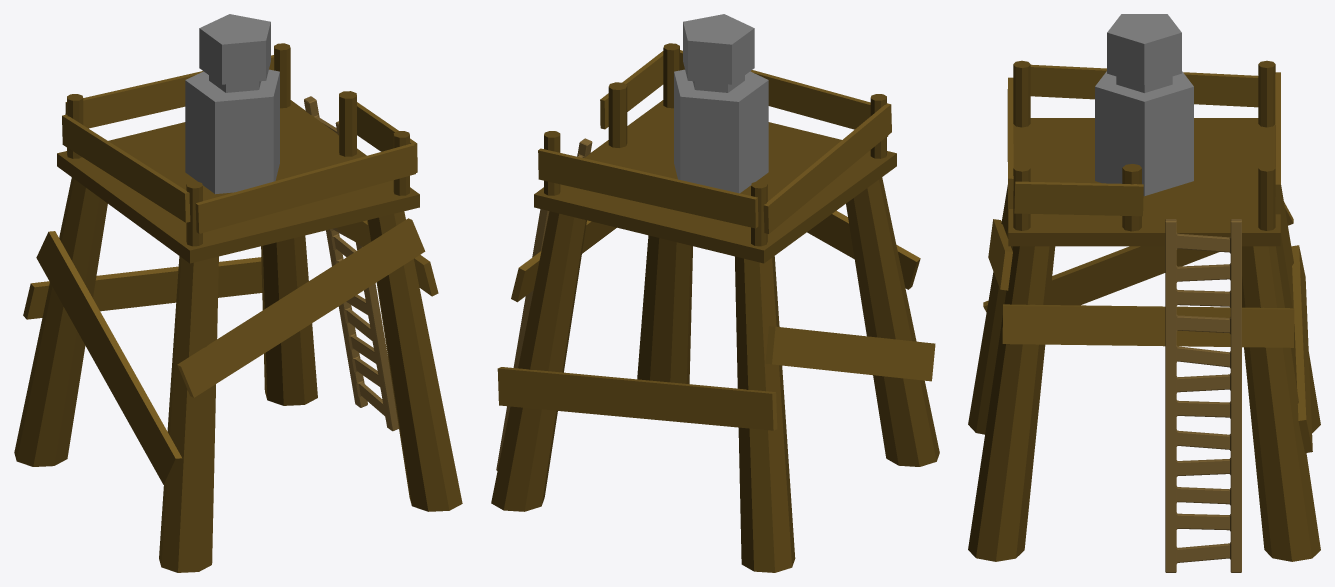
The model's file is woodenTower_Placeholder001.fbx.
3 views of the same model, side by side, from view 1: azimuth 30°, elevation 25°; view 2: azimuth 150°, elevation 25°; view 3: azimuth 270°, elevation 25° (orthographic). The views are drawn at different scales.
Parts seen in each view (by area): view 1: tower_001_Base, archer_001, tower_001_Structuring_003, tower_001_Structuring_001, tower_001_Railing_003, tower_001_Ladder, tower_001_Structuring_002, tower_001_Railing_006, tower_001_Railing_002, tower_001_Railing_004, tower_001_Structuring_004; view 2: tower_001_Base, archer_001, tower_001_Structuring_002, tower_001_Railing_002, tower_001_Structuring_001, tower_001_Railing_006, tower_001_Railing_003, tower_001_Structuring_003, tower_001_Railing_004, tower_001_Structuring_004, tower_001_Ladder; view 3: tower_001_Base, tower_001_Ladder, archer_001, tower_001_Structuring_004, tower_001_Structuring_001, tower_001_Railing_006, tower_001_Railing_004, tower_001_Structuring_002, tower_001_Structuring_003, tower_001_Railing_003, tower_001_Railing_002.
Part boxes in pixels (bbox=[...]): tower_001_Base: bbox=[14, 43, 462, 572]; archer_001: bbox=[185, 14, 279, 194]; tower_001_Structuring_003: bbox=[177, 218, 425, 397]; tower_001_Structuring_001: bbox=[36, 231, 182, 484]; tower_001_Railing_003: bbox=[195, 143, 415, 233]; tower_001_Ladder: bbox=[304, 96, 398, 431]; tower_001_Structuring_002: bbox=[23, 257, 262, 319]; tower_001_Railing_006: bbox=[62, 114, 190, 222]; tower_001_Railing_002: bbox=[65, 55, 273, 128]; tower_001_Railing_004: bbox=[357, 102, 417, 172]; tower_001_Structuring_004: bbox=[336, 220, 438, 296]; tower_001_Base: bbox=[491, 43, 939, 572]; archer_001: bbox=[674, 14, 768, 193]; tower_001_Structuring_002: bbox=[497, 367, 777, 430]; tower_001_Railing_002: bbox=[538, 148, 758, 228]; tower_001_Structuring_001: bbox=[765, 326, 935, 381]; tower_001_Railing_006: bbox=[763, 103, 891, 233]; tower_001_Railing_003: bbox=[680, 50, 888, 136]; tower_001_Structuring_003: bbox=[807, 210, 920, 289]; tower_001_Railing_004: bbox=[600, 51, 663, 129]; tower_001_Structuring_004: bbox=[511, 220, 616, 302]; tower_001_Ladder: bbox=[496, 138, 592, 470]; tower_001_Base: bbox=[968, 60, 1320, 561]; tower_001_Ladder: bbox=[1165, 219, 1241, 572]; archer_001: bbox=[1095, 14, 1193, 196]; tower_001_Structuring_004: bbox=[1002, 304, 1294, 347]; tower_001_Structuring_001: bbox=[983, 202, 1293, 312]; tower_001_Railing_006: bbox=[1030, 64, 1258, 107]; tower_001_Railing_004: bbox=[1014, 181, 1143, 216]; tower_001_Structuring_002: bbox=[1291, 245, 1312, 452]; tower_001_Structuring_003: bbox=[988, 219, 1012, 290]; tower_001_Railing_003: bbox=[1007, 77, 1013, 208]; tower_001_Railing_002: bbox=[1275, 72, 1280, 214].
Size of the model in its own units: 7.29 by 9.75 by 6.77.
